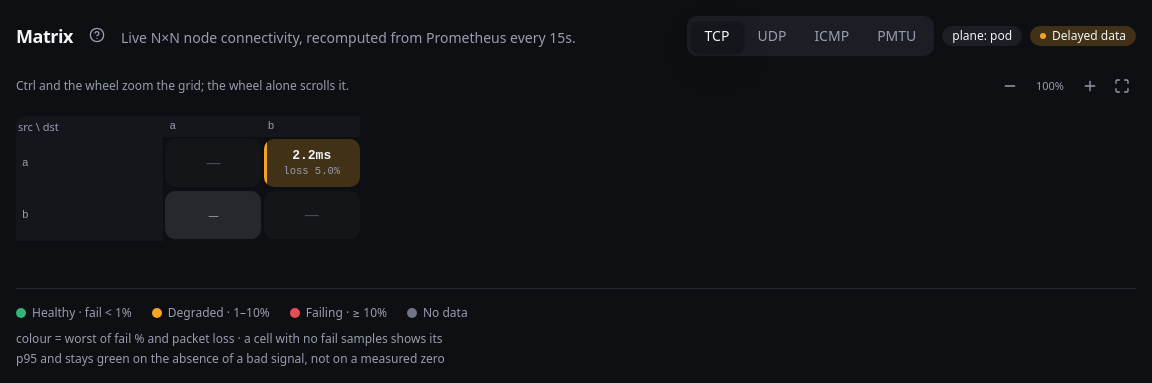
Scenario: MatrixPage — a cell measured without a failure ratio › keeps the figures in the tooltip, marking the failure series as unsampled
Hover over the link with aria-label "a → b:".
mouse_move(312, 163)  # box [264,139,360,187]
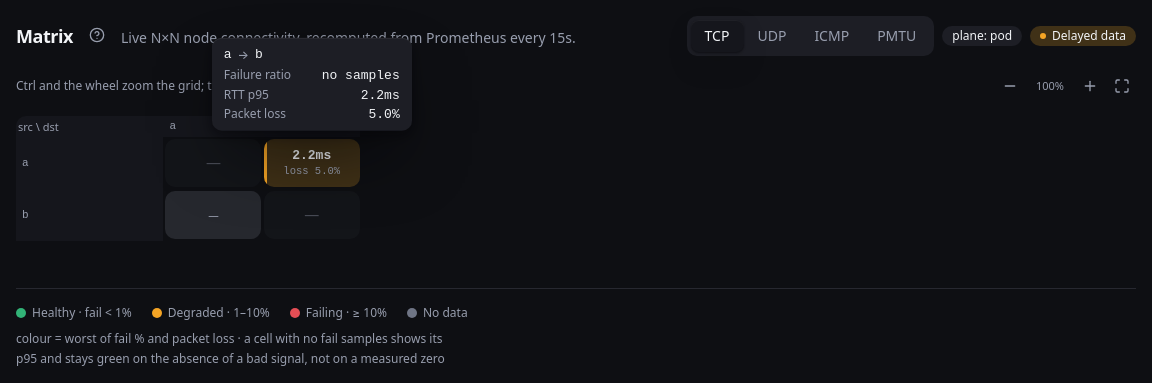
Expected: the tooltip shows "no samples", [322,68,400,83]
Expected: the tooltip shows "2.2ms", [361,87,400,102]
Expected: the tooltip shows "Packet loss", [224,105,286,122]
